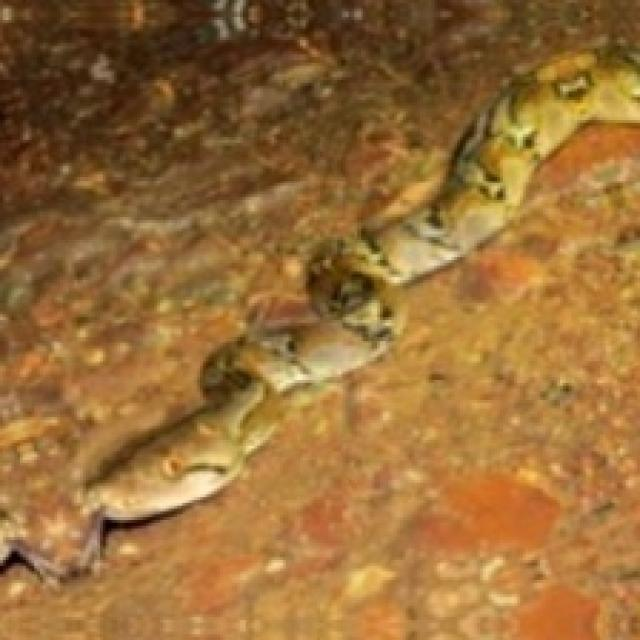reticulated python: (0, 53, 640, 581)
